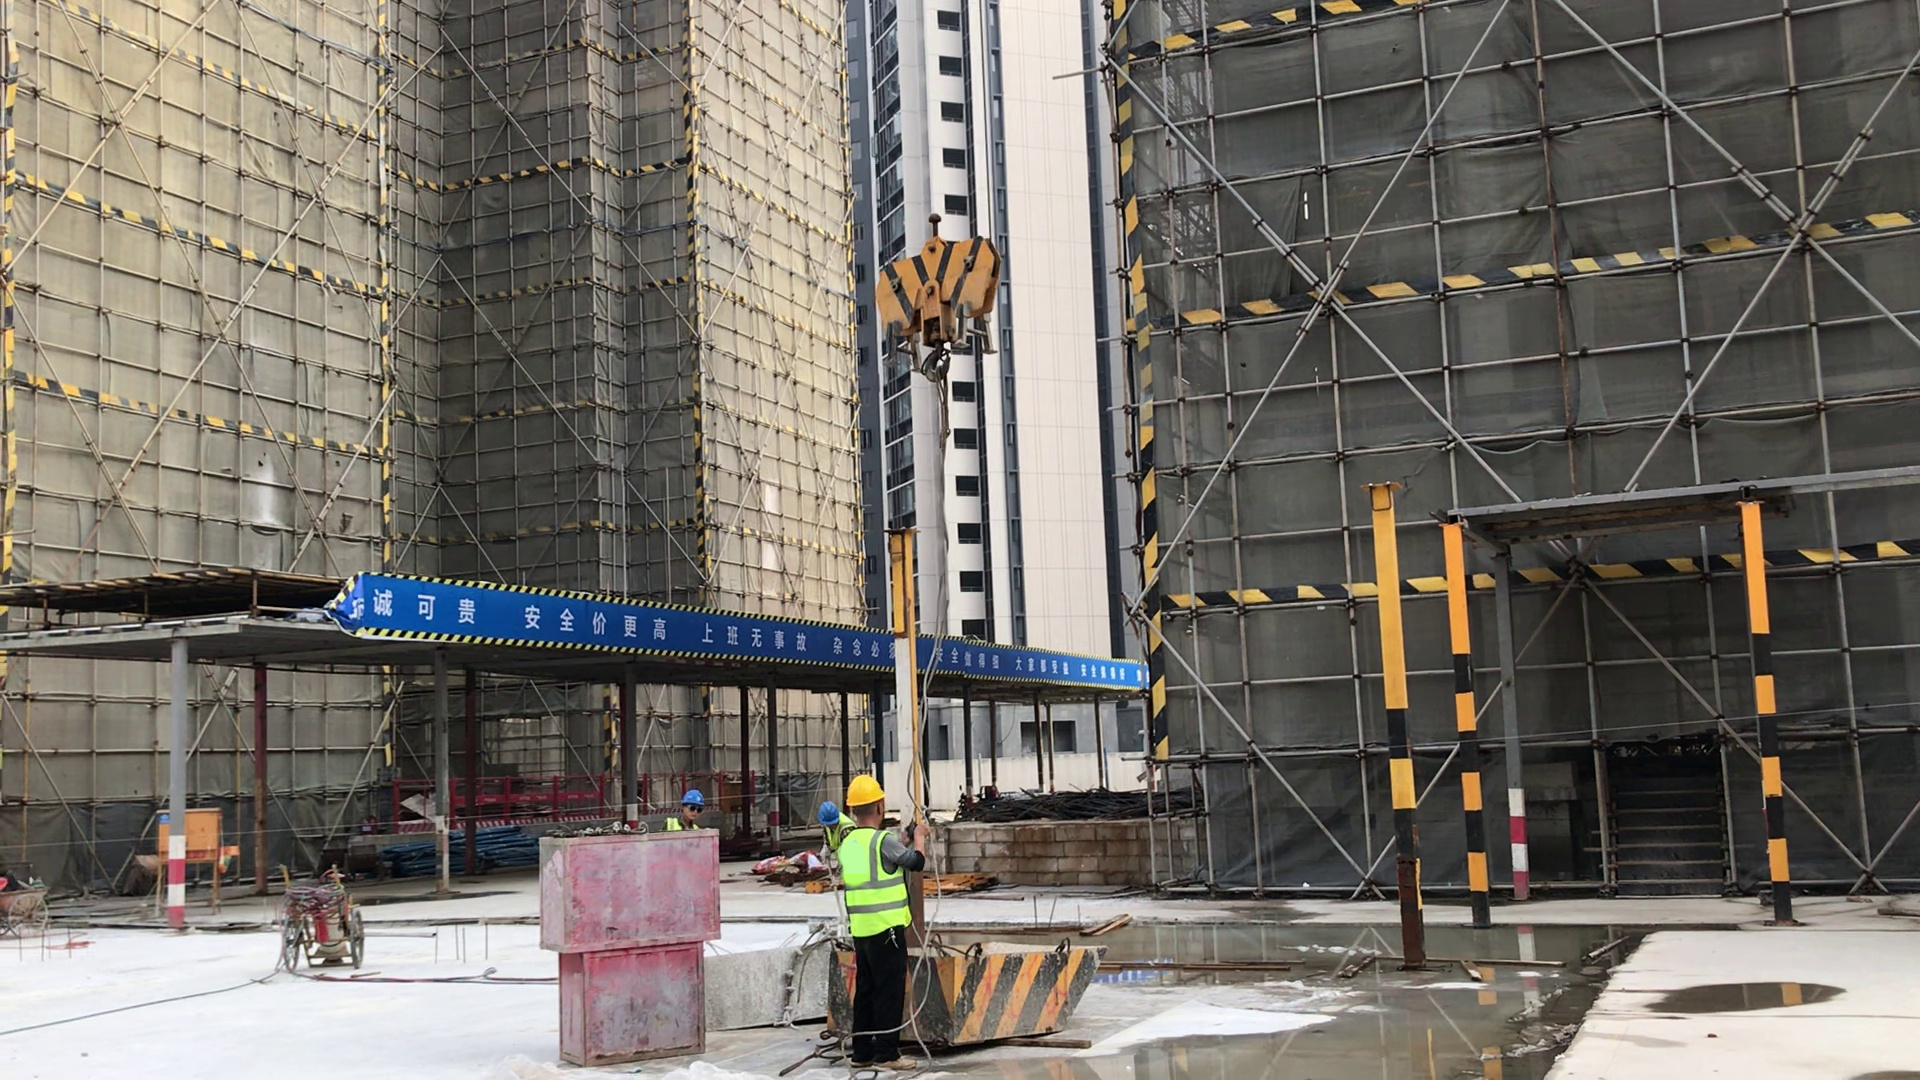ebox: (161, 802, 222, 861)
fence: (392, 769, 756, 828)
handcart: (1, 885, 71, 943)
helmet: (844, 772, 889, 803), (679, 788, 709, 809), (816, 804, 843, 826)
hook: (872, 223, 1008, 372)
hopper: (822, 924, 1119, 1046)
person: (830, 772, 932, 1074), (816, 803, 854, 888), (661, 785, 719, 836)
slogan: (361, 575, 1146, 687)
vest: (837, 826, 912, 931), (664, 819, 710, 834)
